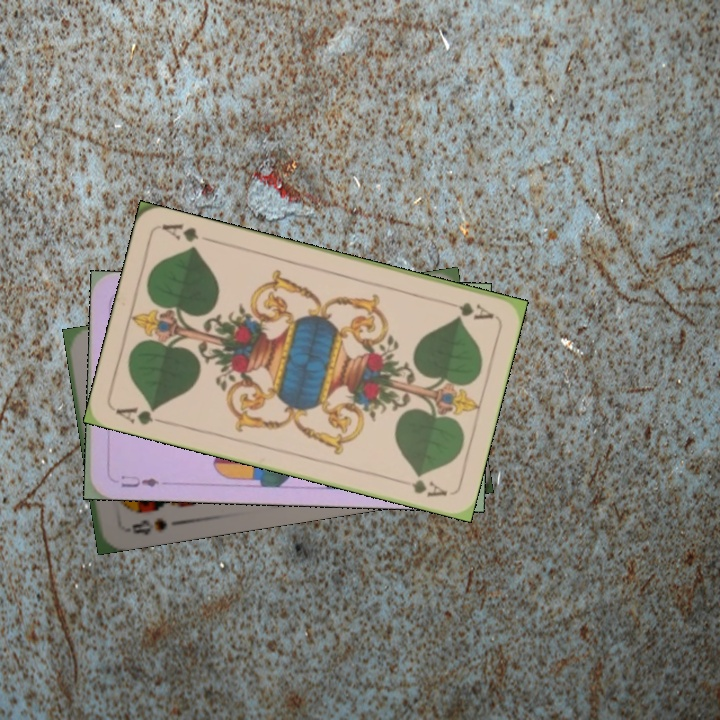EU: (117, 471, 162, 490)
GA: (111, 402, 169, 428), (439, 298, 497, 323)
S8: (128, 513, 170, 538)
